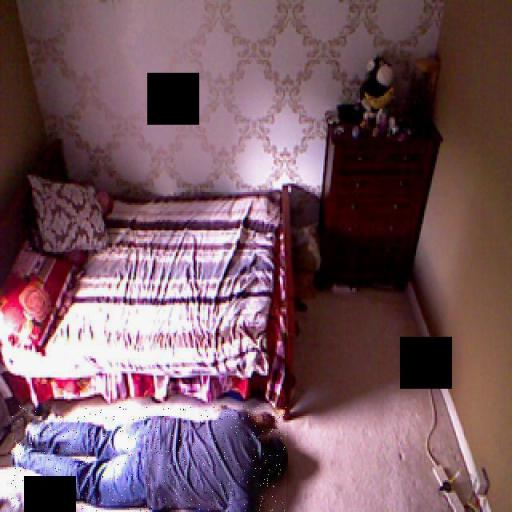Fall: (12, 405, 287, 512)
